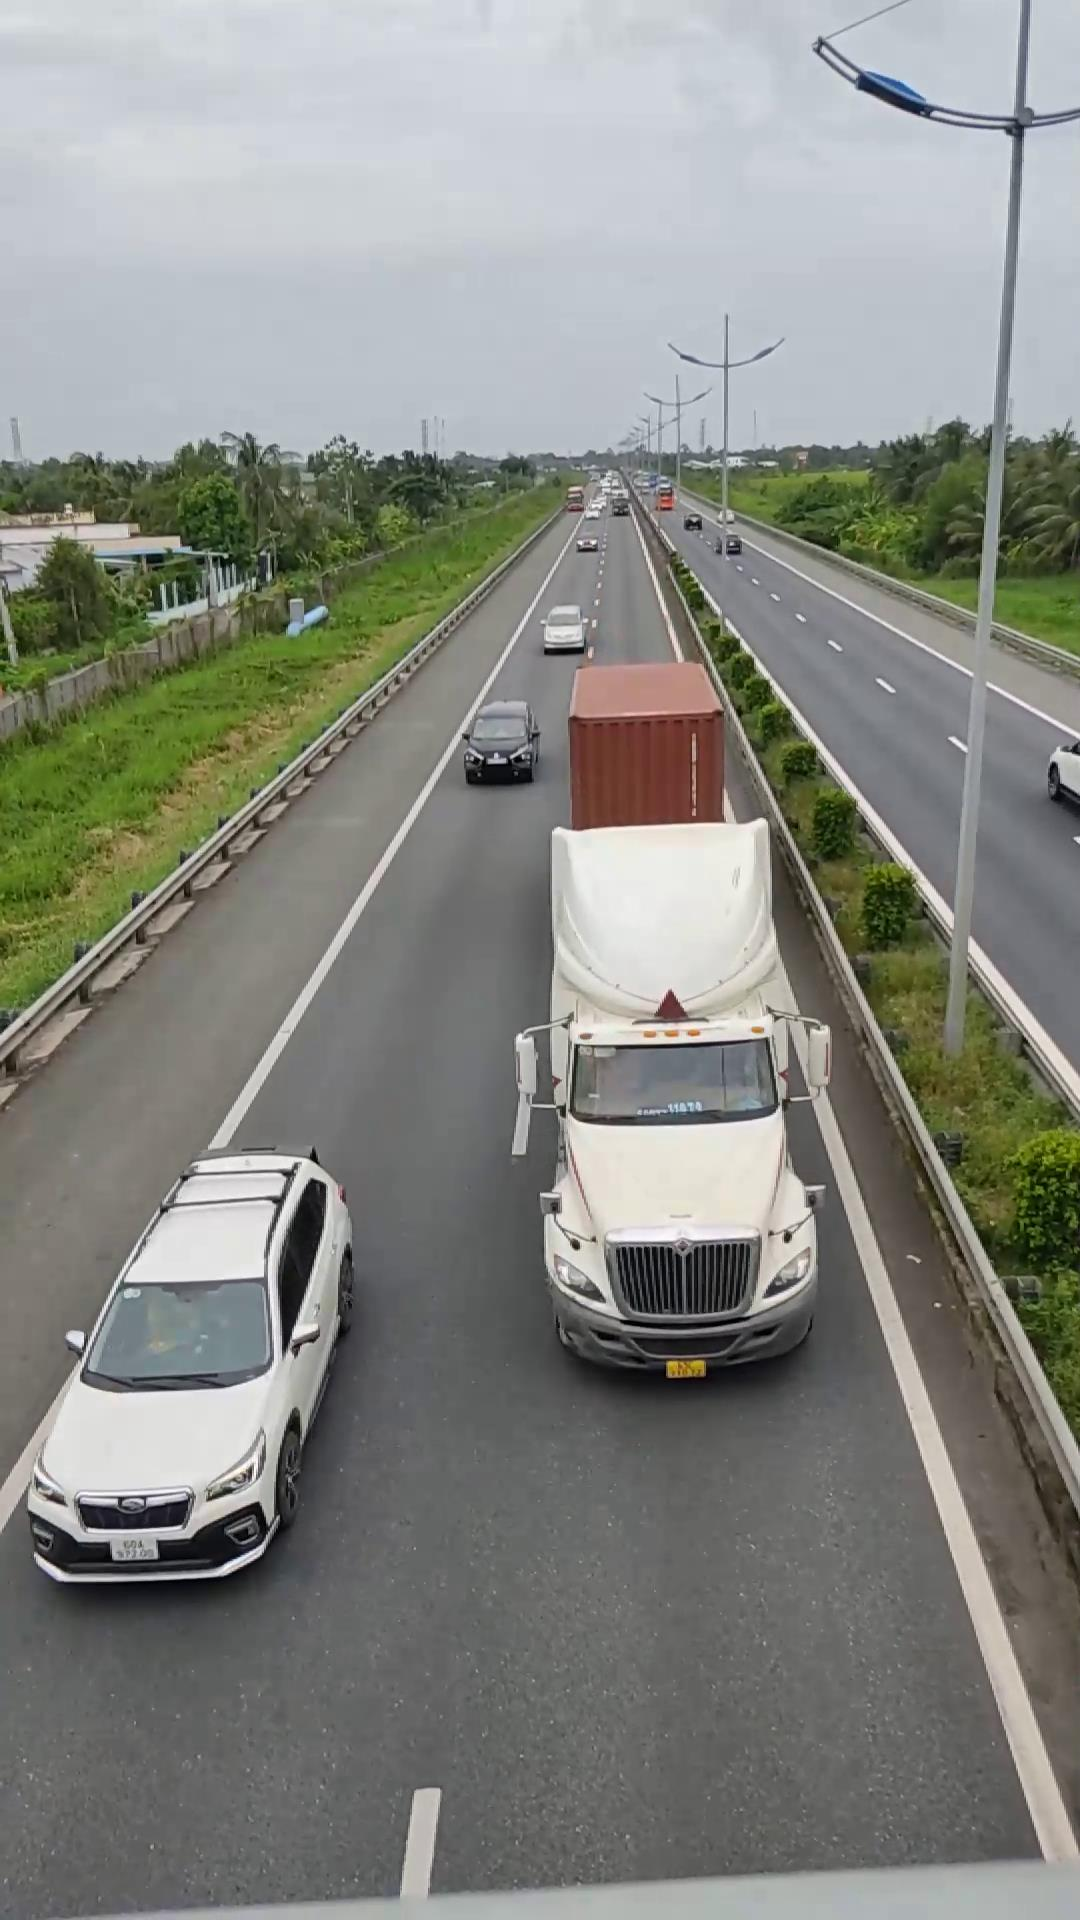car: (18, 1146, 356, 1585), (462, 698, 541, 783)
truck: (520, 659, 827, 1379)
